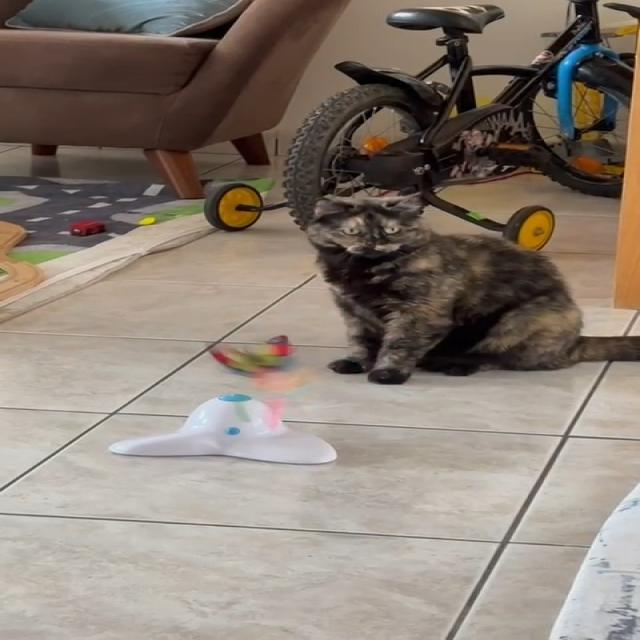authorized: (302, 191, 638, 384)
